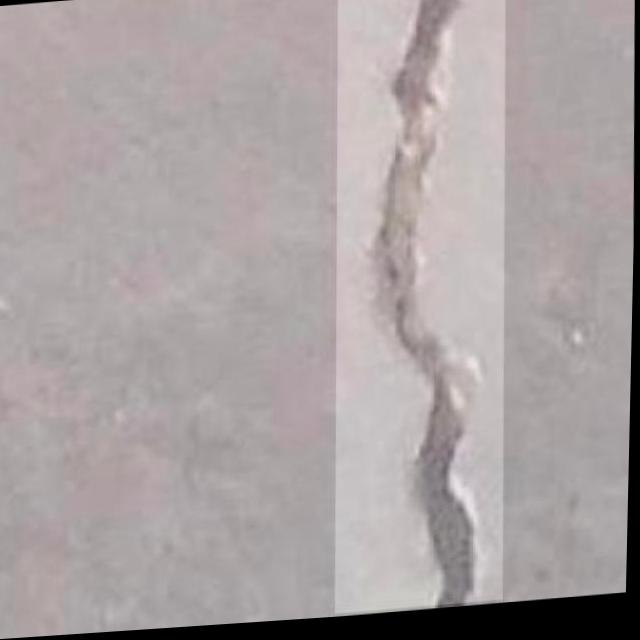Crack: (327, 0, 519, 621)
